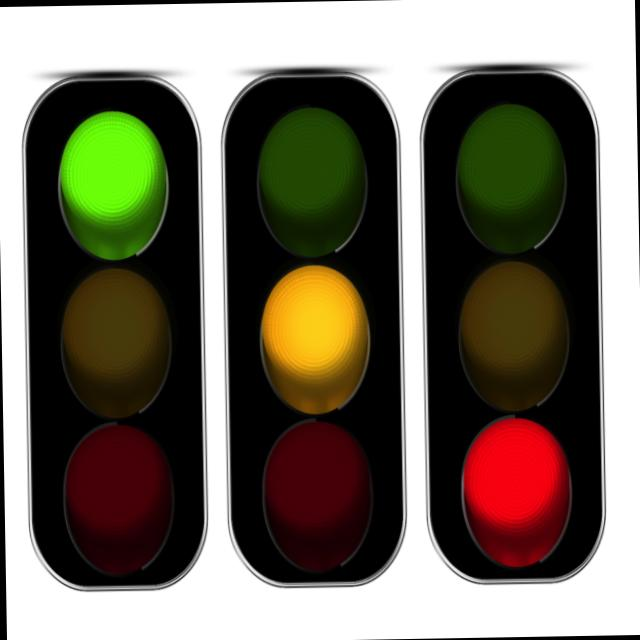green-lights: (46, 102, 174, 266)
red-lights: (452, 416, 578, 574)
yellow-lights: (252, 266, 368, 416)
